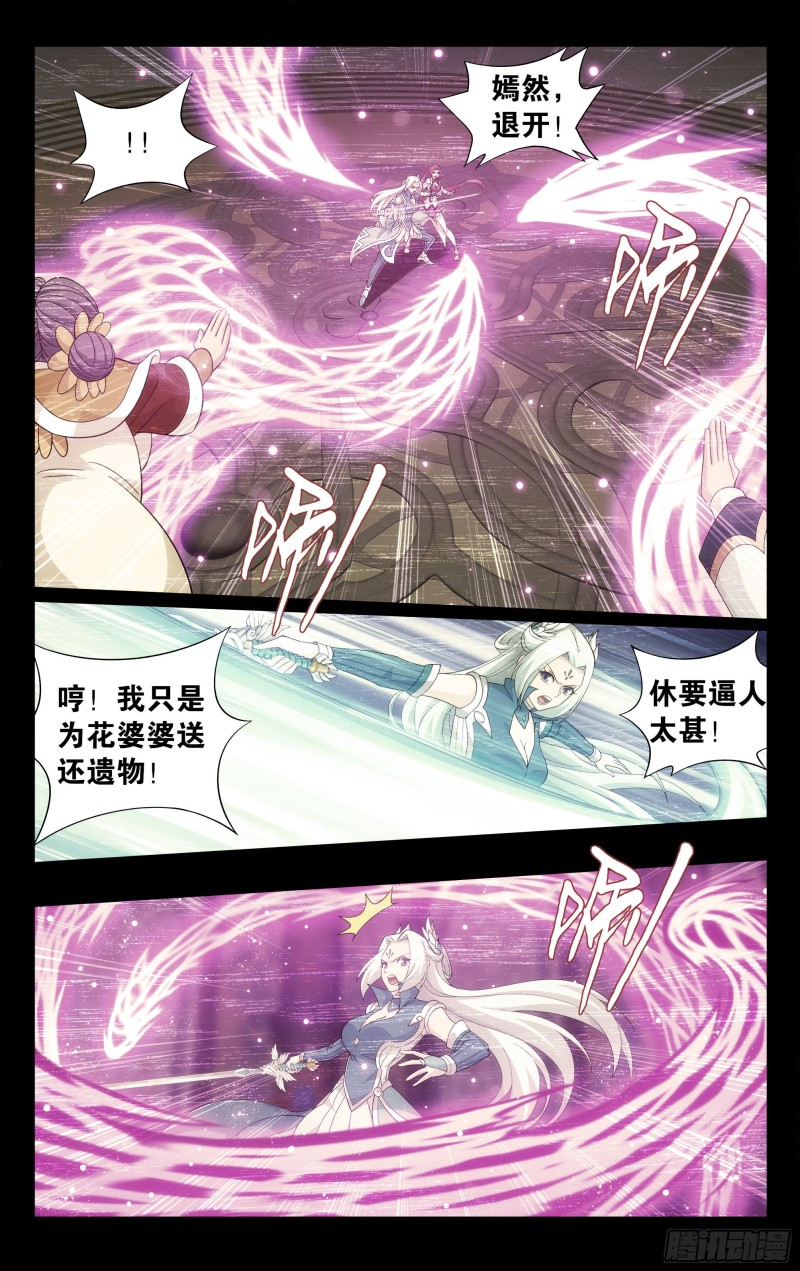boxBomb: (24, 619, 252, 850), (618, 622, 774, 781), (438, 44, 600, 173), (63, 74, 219, 203)
minBox: (27, 35, 777, 628), (24, 844, 774, 1228), (21, 586, 777, 866)
